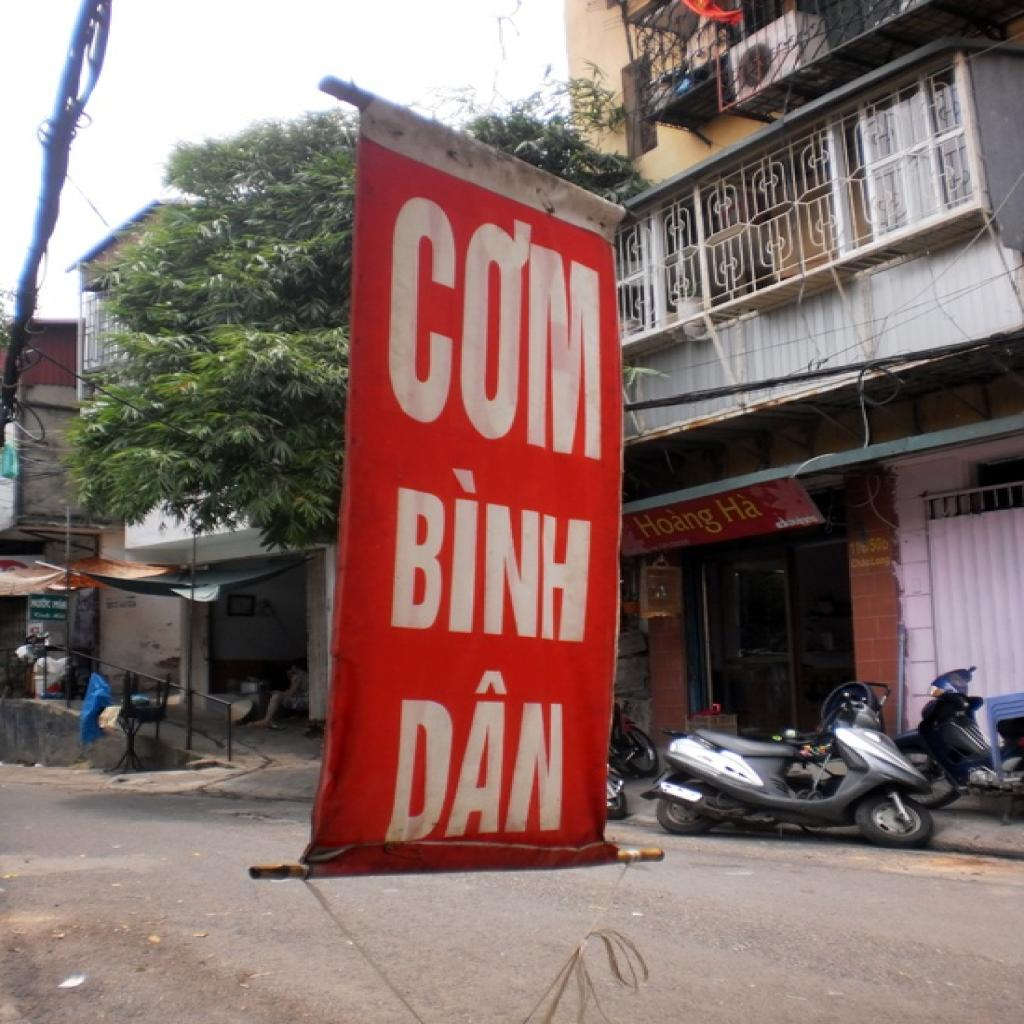text: (380, 169, 609, 467), (386, 450, 600, 648), (378, 659, 573, 848), (627, 502, 728, 544), (870, 555, 894, 570)
